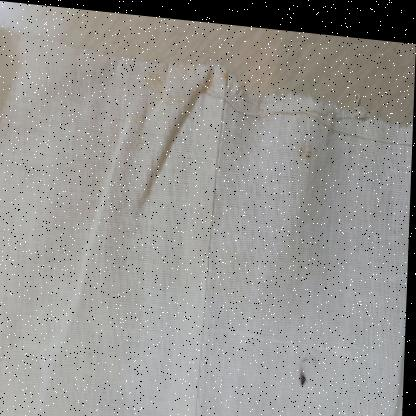spot: (137, 57, 187, 101), (294, 132, 320, 152)
